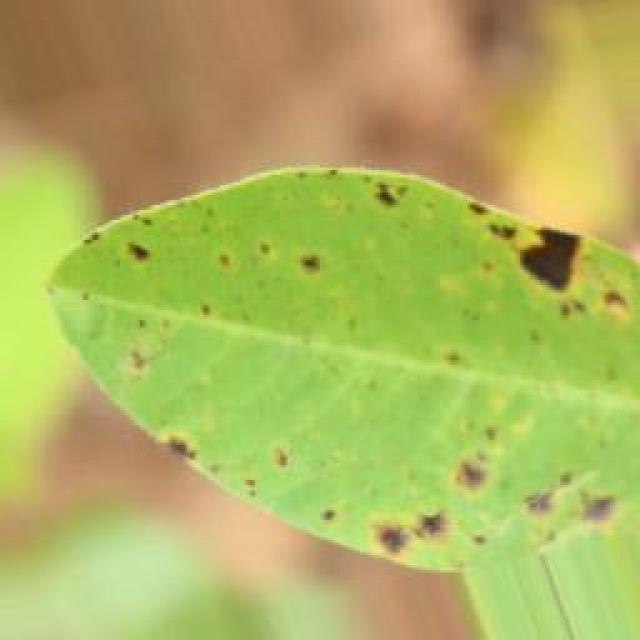Yellowish: (3, 151, 640, 590)
